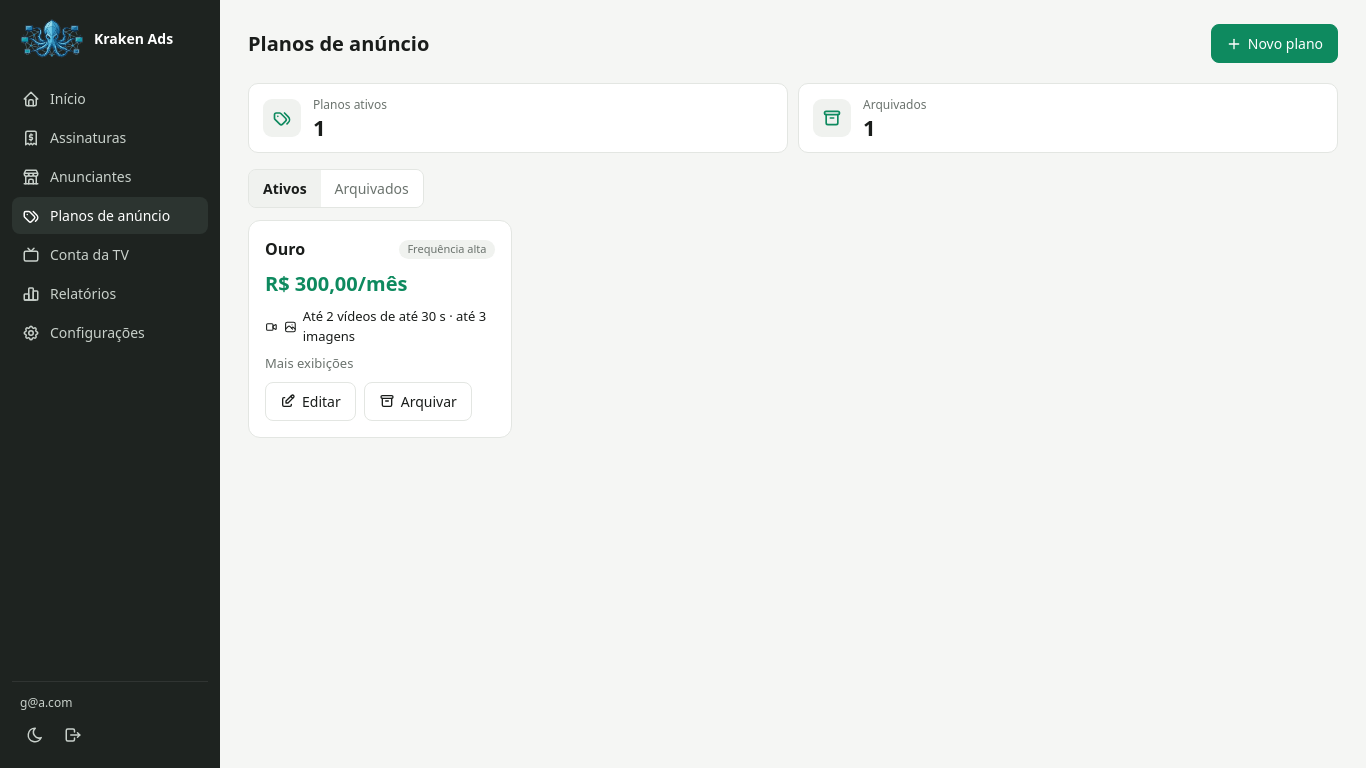
it: ad plans › shows plan cards with price and limits, and archives
Expected: the heading "Planos de anúncio" is shown, top-left (248, 28), bottom-right (429, 58)
Expected: the text "Ouro" is shown, top-left (265, 237), bottom-right (305, 261)
Click the button with aria-label "Arquivar Ouro": (418, 401) top-left (364, 382), bottom-right (472, 421)
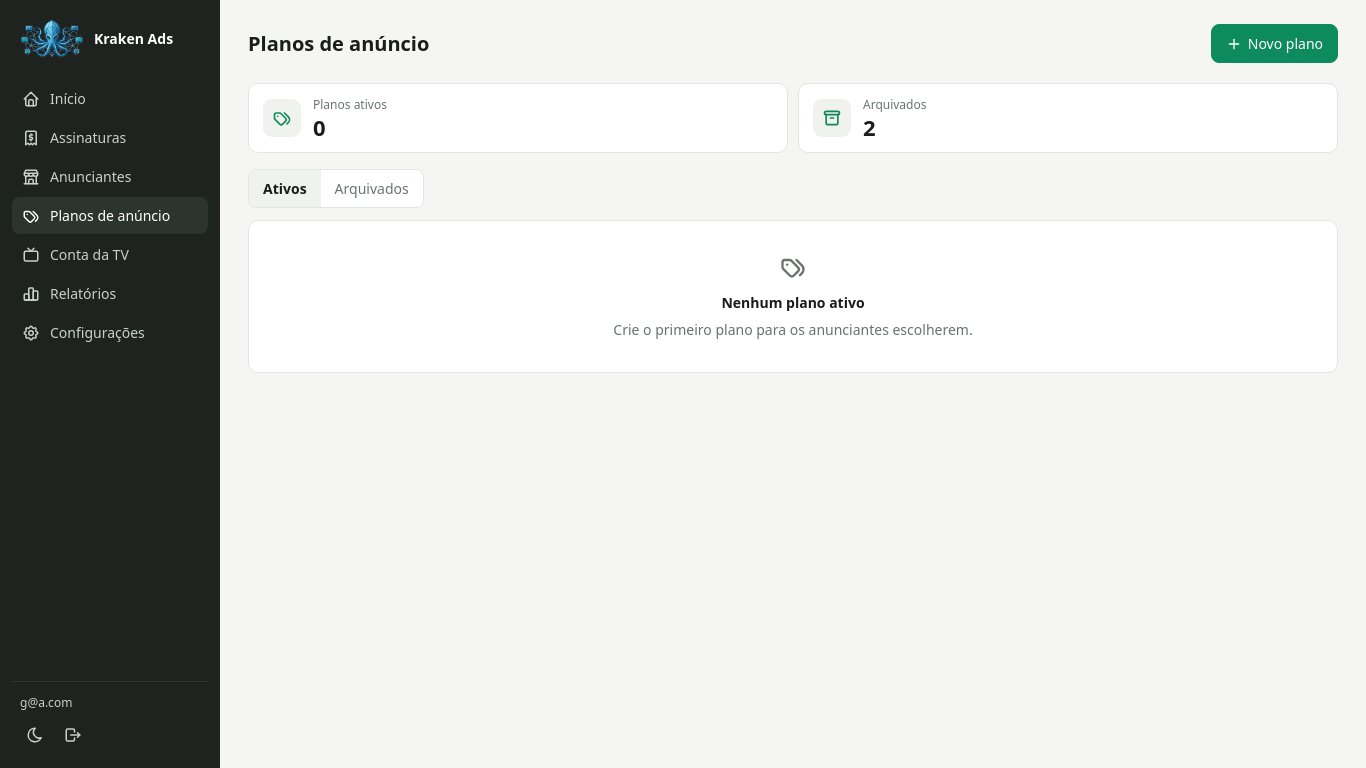
Click the button "Arquivados": (372, 189) top-left (321, 170), bottom-right (423, 207)
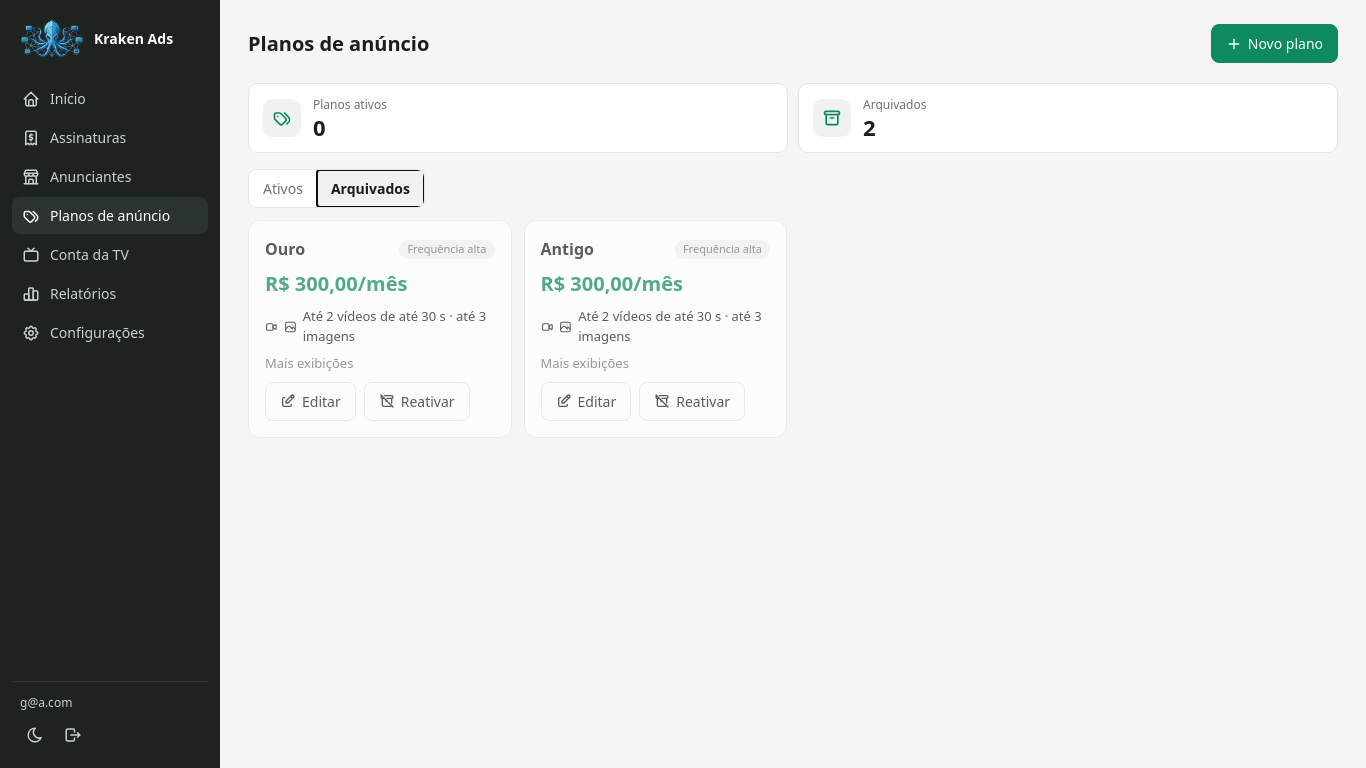
Now the text "Antigo" is shown, box top-left (540, 237), bottom-right (594, 261)
Now the button with aria-label "Reativar Ouro" is shown, box top-left (364, 382), bottom-right (470, 421)
